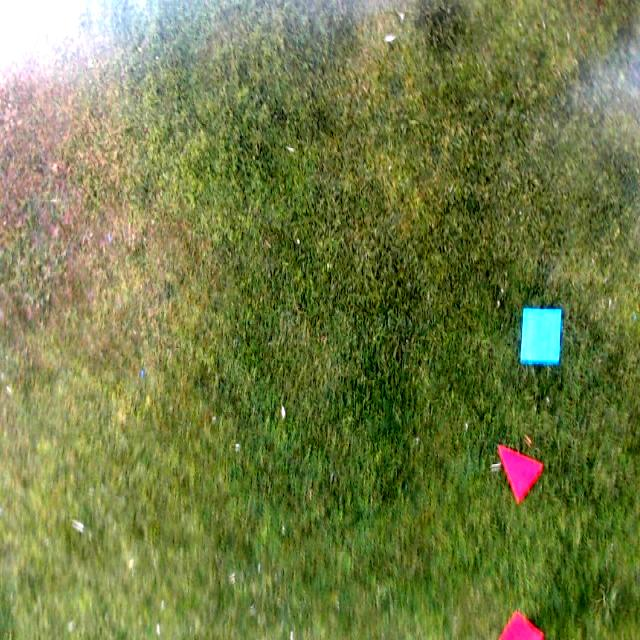blue_square: (520, 308, 560, 365)
red_triangle: (500, 442, 542, 503)
